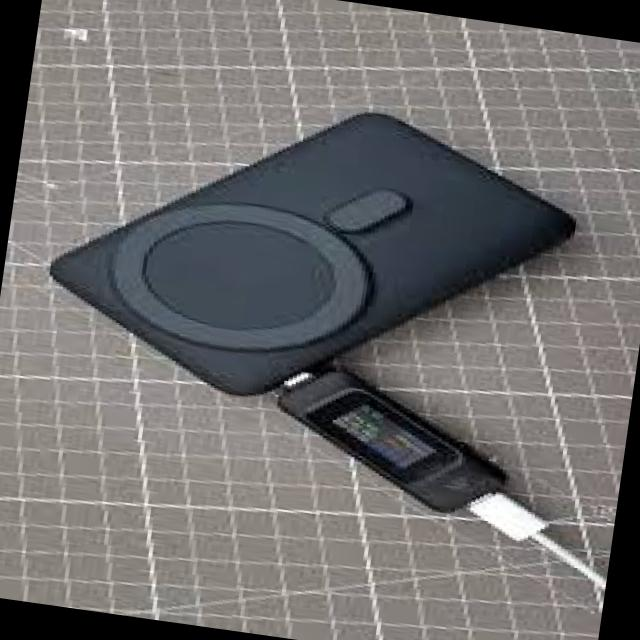portable-charger: (34, 72, 596, 436)
